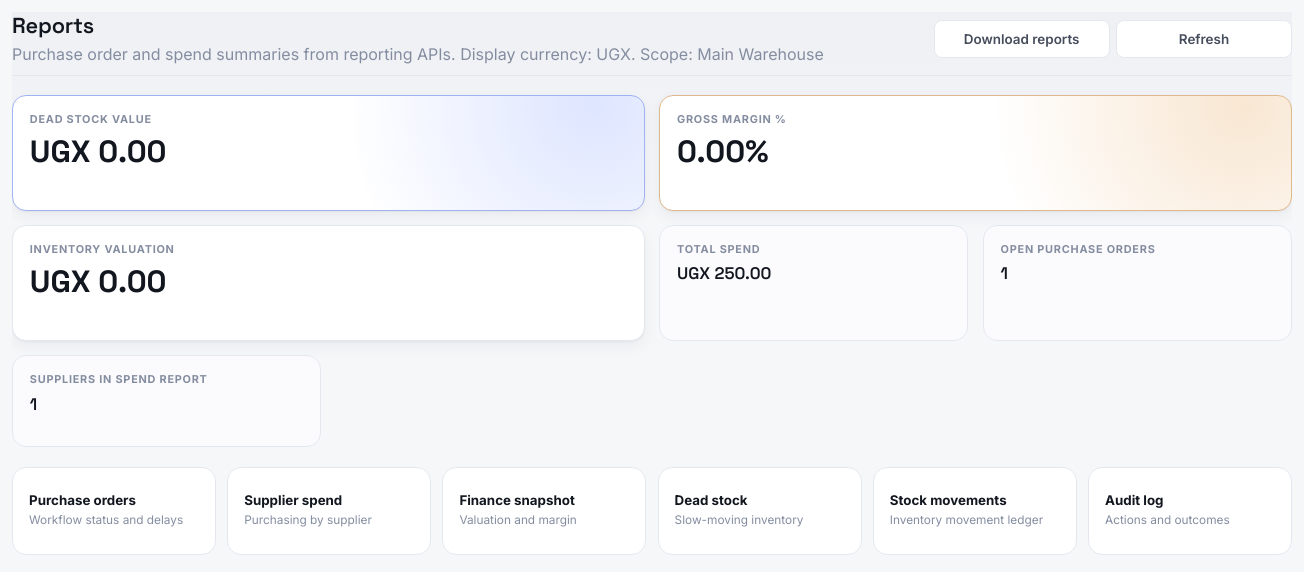
Test: Reports page › groups report downloads under one dropdown menu
Click the button "Download reports": (1022, 39) [934,20,1110,58]
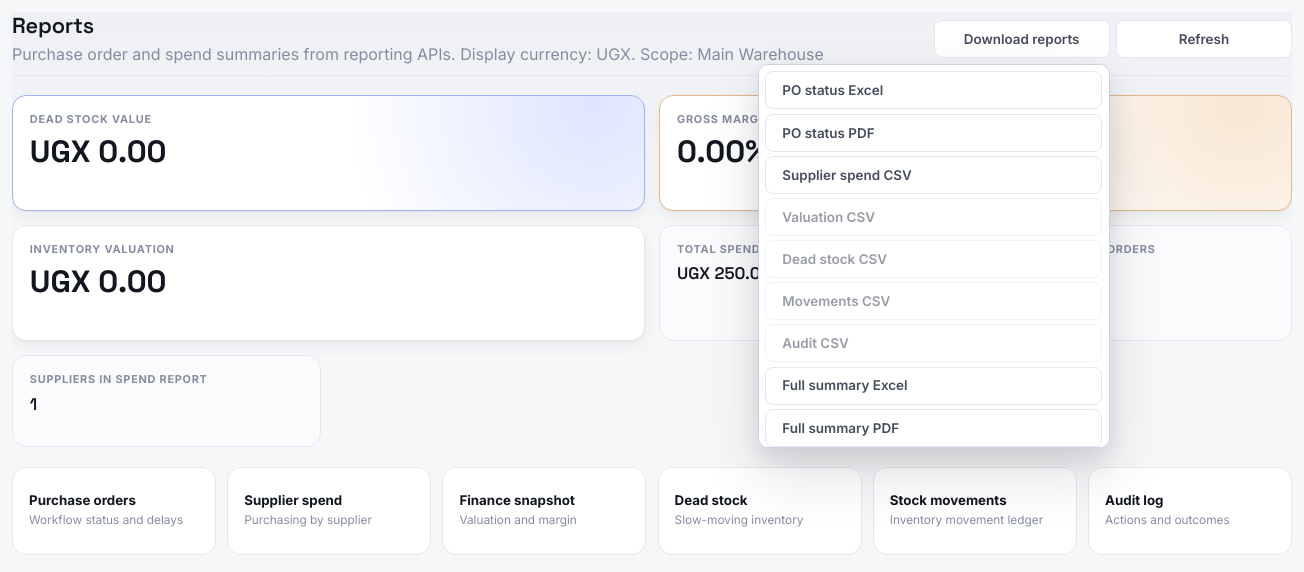
expect the menu is shown: met, box [758,64,1110,448]
expect the menu item "PO status Excel" is shown: met, box [765,71,1102,109]
